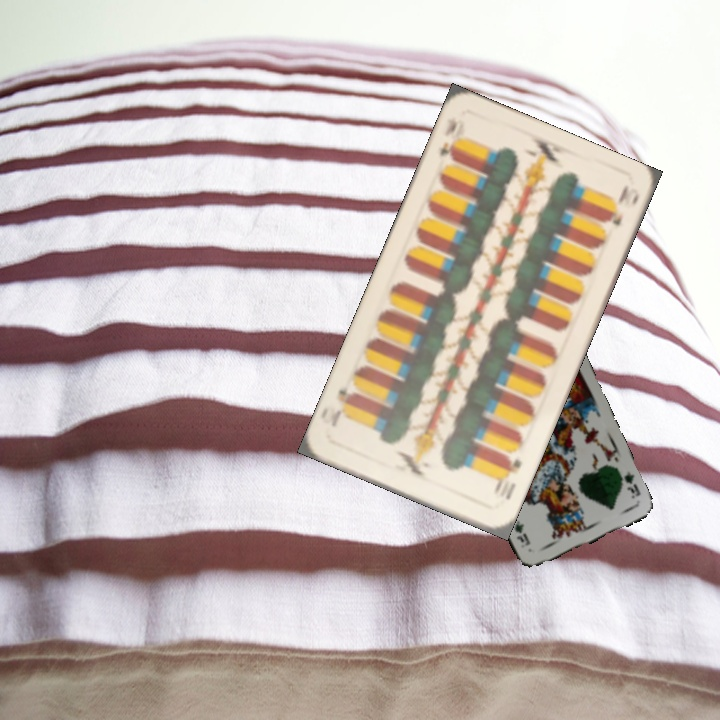E10: (489, 452, 524, 503), (435, 113, 468, 164)
GK: (620, 467, 643, 501)
